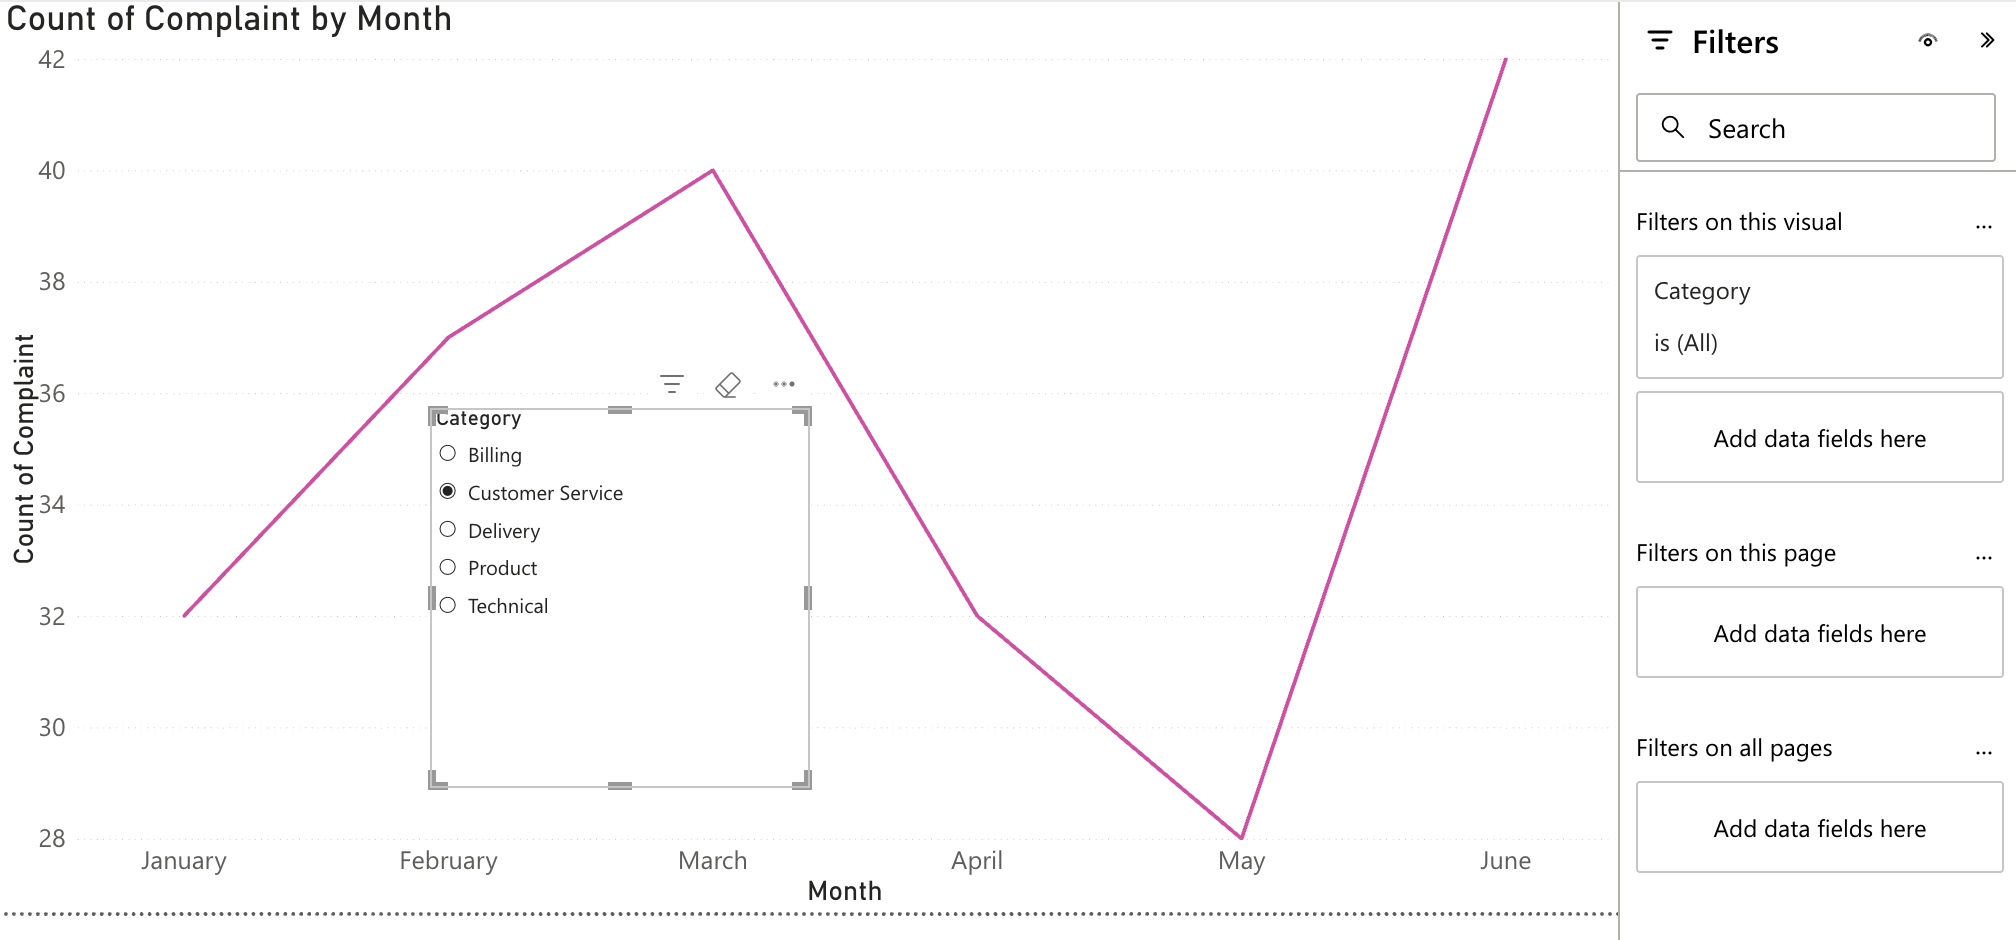

The page's visual inventory and layout, read from the dashboard file:
{"tool":"powerbi","page":{"name":"Line Chart+Slicer","canvas":[1280,720],"ordinal":1},"visuals":[{"type":"lineChart","fields":{"Category":["processed_customer_feedback_dataset_for_PowerBI 2.Date.Variation.Date Hierarchy.Month","processed_customer_feedback_dataset_for_PowerBI 2.Date.Variation.Date Hierarchy.Day"],"Y":["CountNonNull(processed_customer_feedback_dataset_for_PowerBI 2.Complaint)"]},"box":[0,0,1280,719.9],"z":0},{"type":"listSlicer","fields":{"Values":["processed_customer_feedback_dataset_for_PowerBI 2.Category"]},"box":[340.2,321.2,300.6,300.6],"z":1}]}

Visuals, with their boxes on the page's 1280x720 design canvas (x1, y1, x2, y2). These are canvas units, not pixel positions in the 2016x940 screenshot, which may show the page scaled, cropped or inside an application window:
lineChart - processed_customer_feedback_dataset_for_PowerBI 2.Date.Variation.Date Hierarchy.Month x processed_customer_feedback_dataset_for_PowerBI 2.Date.Variation.Date Hierarchy.Day: (x1=0, y1=0, x2=1280, y2=720)
listSlicer - processed_customer_feedback_dataset_for_PowerBI 2.Category: (x1=340, y1=321, x2=641, y2=622)
